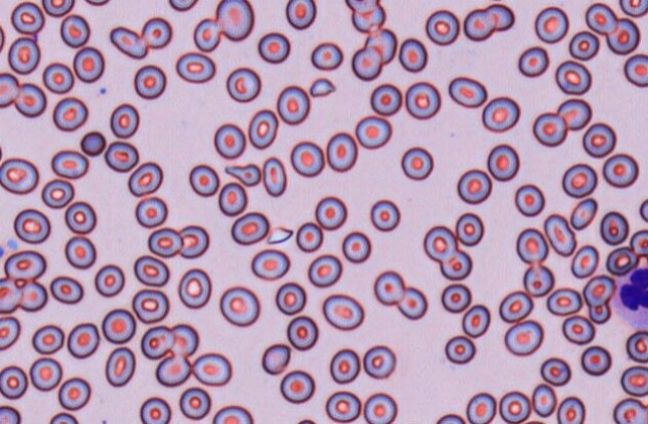GRAN: (613, 264, 648, 333)
PLT: (0, 245, 6, 259)
RBC: (219, 285, 260, 326), (215, 0, 254, 41), (322, 293, 364, 330), (503, 319, 543, 356), (0, 157, 39, 194), (543, 213, 576, 256), (404, 81, 441, 119), (481, 96, 520, 132), (191, 352, 232, 386), (177, 267, 211, 308), (276, 84, 310, 124), (4, 249, 46, 281), (602, 152, 639, 188), (534, 5, 569, 43), (131, 288, 169, 323), (230, 211, 269, 245), (325, 131, 357, 172), (225, 66, 261, 102), (555, 59, 591, 95), (561, 162, 597, 198), (456, 168, 492, 204), (13, 208, 50, 243), (289, 140, 324, 177), (109, 25, 147, 59), (354, 115, 392, 149), (448, 75, 487, 108), (175, 51, 215, 83), (250, 248, 290, 280), (104, 346, 135, 387), (247, 108, 278, 149), (101, 308, 136, 344), (532, 111, 567, 147), (127, 161, 163, 196), (52, 96, 88, 131), (423, 225, 457, 262), (606, 17, 640, 54), (66, 322, 100, 359), (7, 36, 40, 74), (486, 143, 519, 181), (155, 353, 191, 387), (279, 369, 315, 403), (425, 9, 459, 45), (582, 122, 616, 158), (364, 27, 397, 64), (213, 122, 246, 159), (307, 253, 342, 287), (362, 344, 396, 379), (515, 227, 548, 263), (50, 149, 89, 179), (140, 325, 174, 359), (57, 376, 91, 410), (10, 0, 44, 34), (498, 290, 533, 323), (314, 195, 347, 230), (133, 64, 166, 99), (325, 390, 361, 422), (133, 254, 169, 286), (72, 46, 104, 82), (29, 357, 62, 391), (584, 2, 618, 35), (178, 386, 211, 420), (400, 146, 433, 180), (373, 270, 405, 305), (14, 82, 46, 117), (286, 315, 318, 350), (329, 348, 360, 384), (463, 8, 496, 41), (498, 390, 531, 423), (369, 83, 402, 116), (582, 274, 616, 306), (522, 263, 554, 297), (557, 98, 591, 130), (64, 235, 96, 269), (64, 200, 96, 234), (104, 140, 138, 172), (351, 46, 382, 81), (109, 102, 139, 138), (257, 31, 290, 63), (134, 196, 167, 228), (396, 286, 427, 320), (363, 392, 397, 423), (178, 224, 209, 258), (275, 281, 306, 315), (94, 263, 125, 297), (147, 227, 182, 257), (599, 210, 629, 245), (546, 287, 582, 316), (261, 156, 287, 196), (517, 45, 549, 77), (439, 249, 472, 280), (141, 16, 172, 49), (59, 14, 90, 47), (369, 198, 400, 231), (188, 163, 219, 196), (454, 212, 484, 246), (561, 315, 595, 345), (398, 37, 427, 72), (218, 181, 247, 216), (42, 62, 74, 93), (605, 246, 638, 276), (41, 178, 74, 208), (341, 230, 371, 263), (31, 324, 64, 354), (514, 183, 544, 216), (170, 323, 199, 357), (570, 244, 599, 278), (461, 304, 490, 338), (49, 275, 83, 304), (193, 17, 221, 52), (465, 392, 496, 423), (580, 345, 611, 376), (310, 41, 343, 70), (0, 365, 28, 399), (440, 283, 471, 313), (540, 356, 571, 386), (568, 30, 599, 60), (261, 343, 290, 375), (224, 162, 261, 187), (569, 197, 597, 230), (612, 397, 647, 423), (285, 0, 316, 29), (444, 335, 475, 364), (19, 280, 47, 312), (295, 221, 323, 252), (139, 396, 171, 423), (531, 383, 556, 417), (620, 365, 647, 396), (623, 53, 647, 87), (485, 3, 514, 31), (211, 404, 253, 423), (556, 396, 585, 423), (0, 278, 21, 313), (625, 330, 647, 362), (0, 315, 20, 350), (80, 130, 106, 156), (0, 72, 19, 107), (41, 0, 75, 17), (629, 228, 647, 257), (588, 302, 611, 324), (619, 0, 647, 17), (345, 0, 378, 12), (0, 405, 21, 423), (49, 411, 78, 423), (168, 0, 199, 11), (435, 413, 465, 423), (639, 198, 647, 222), (84, 0, 110, 6), (0, 24, 5, 52), (522, 419, 545, 424), (296, 418, 316, 423)
Schistocyte: (309, 77, 337, 97)
